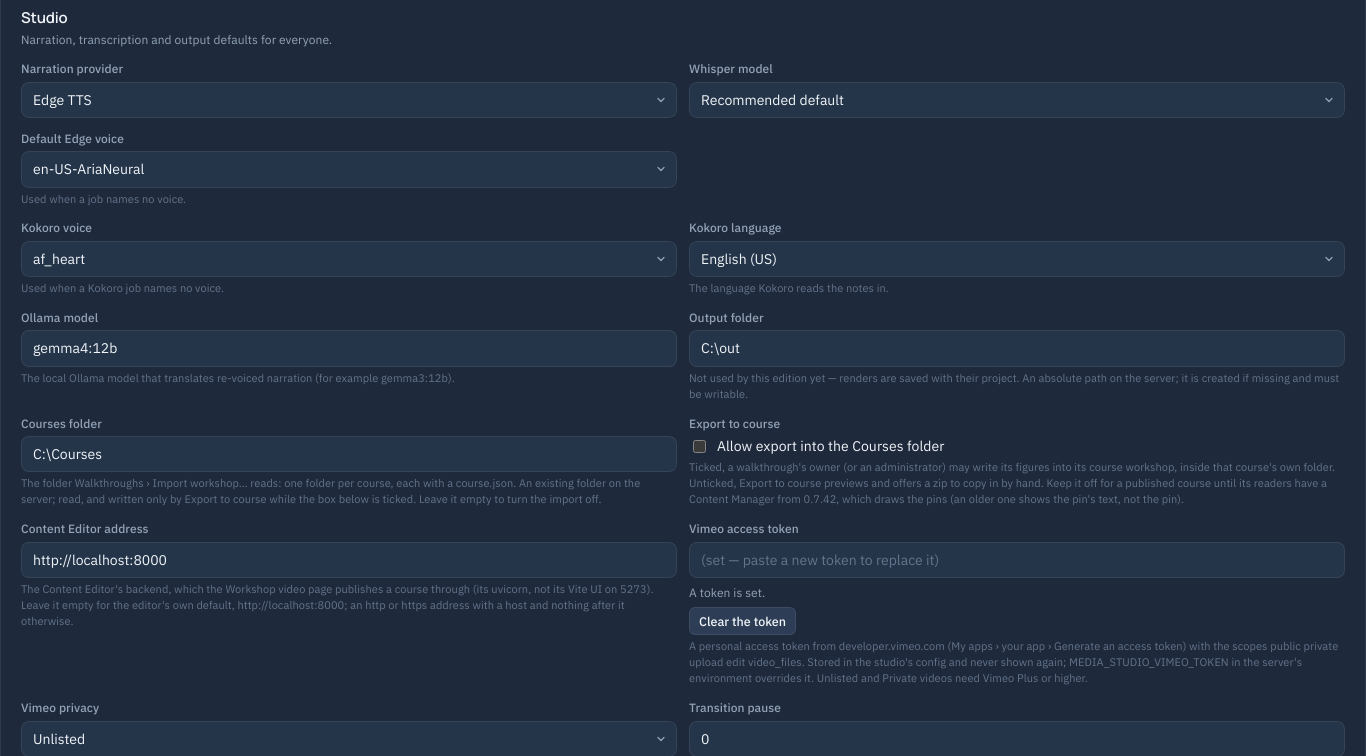
it: The Vimeo access token and privacy › Clear the token sends an empty string, and the environment's token is said to win
The image size is (1366, 756).
expect the text "A token is set." is shown: met, box top-left (689, 585), bottom-right (765, 600)
Click the button "Clear the token".
click(742, 621)  # box top-left (689, 607), bottom-right (796, 635)
(page scrolled)
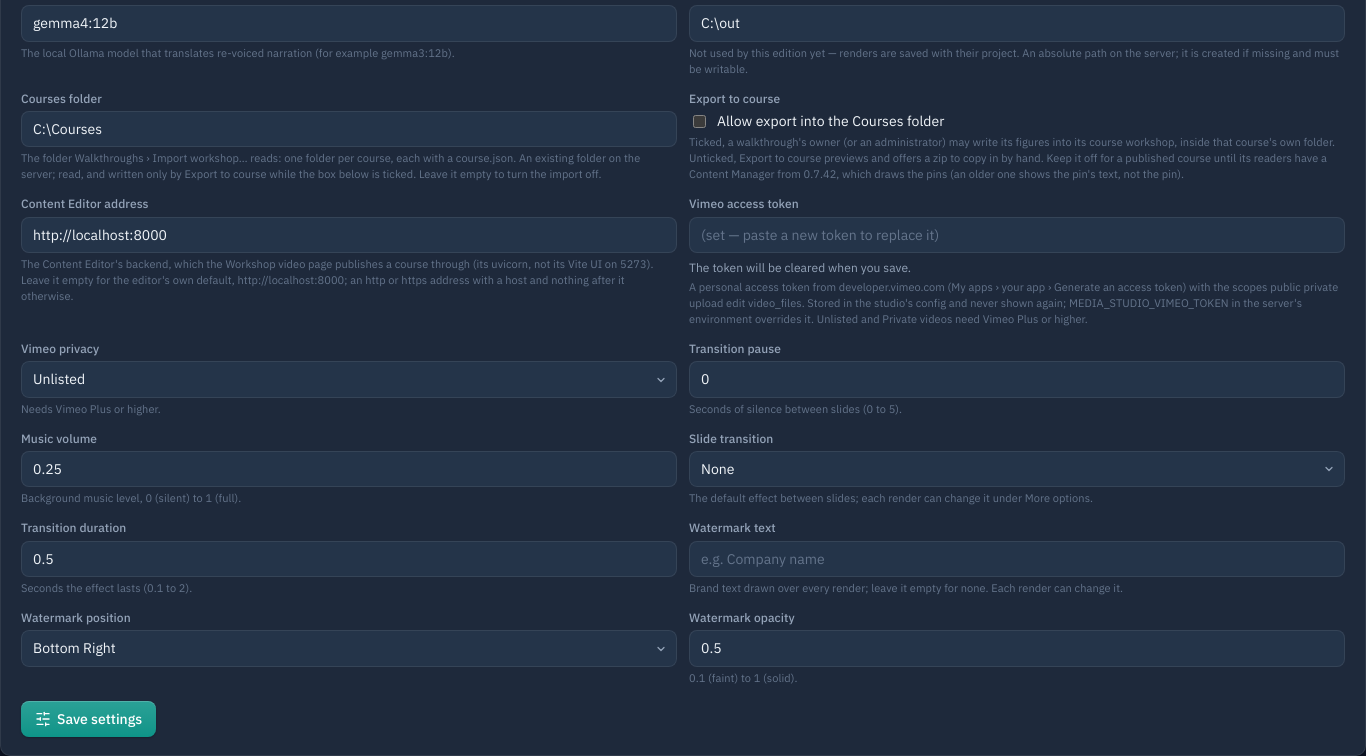
expect the text "The token will be cleared when you save." is shown: met, box top-left (689, 260), bottom-right (911, 275)
Click the button "Save settings".
click(89, 719)  # box top-left (21, 701), bottom-right (156, 737)
(page scrolled)
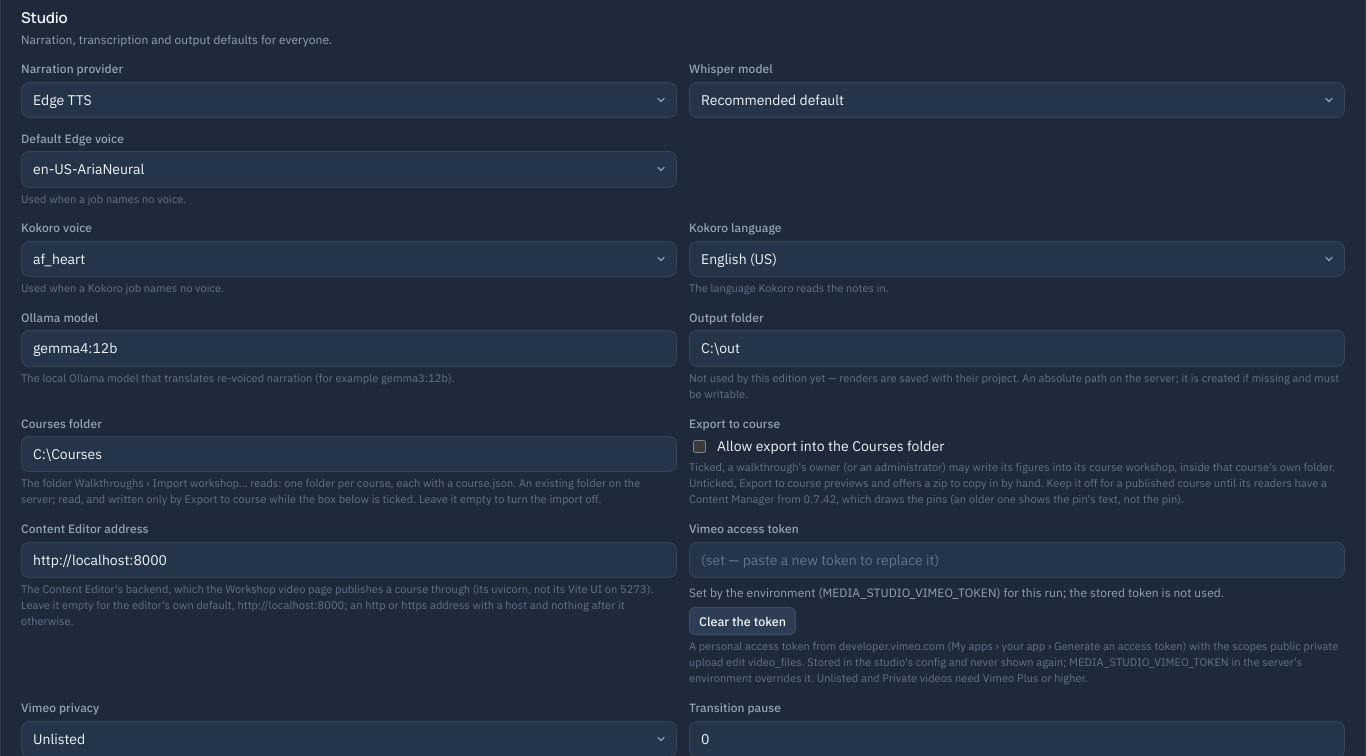
expect the text "Set by the environment (MEDIA_STUDIO_VIMEO_TOKEN) for this run; the stored token is not used." is shown: met, box top-left (689, 585), bottom-right (1224, 600)
